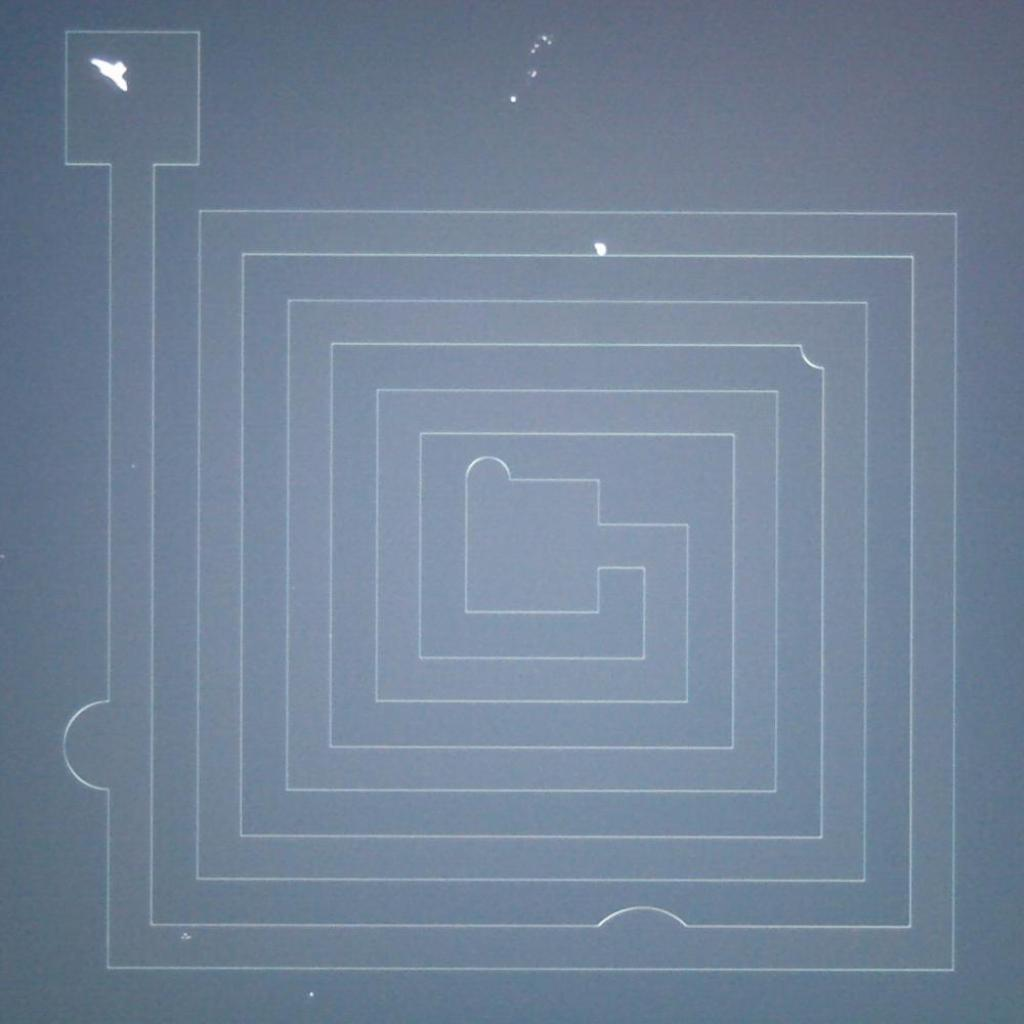curve: (93, 60, 126, 92)
dot: (594, 243, 607, 255), (510, 97, 516, 103), (532, 71, 538, 77), (534, 44, 539, 48), (186, 936, 190, 940), (542, 36, 546, 40), (530, 49, 534, 53), (310, 993, 313, 997), (548, 41, 551, 44), (184, 934, 187, 936)
